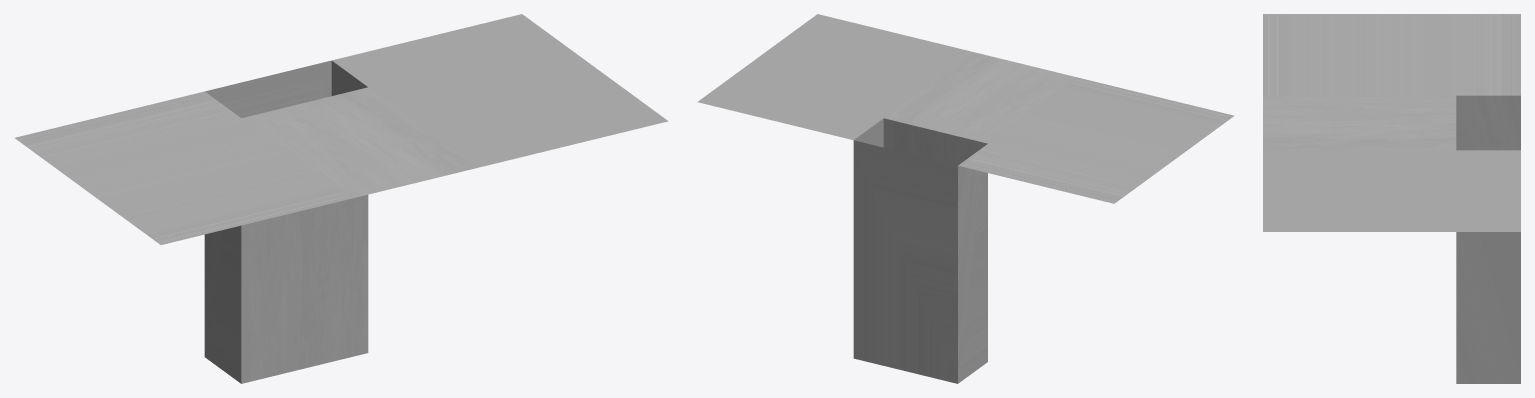
File: centered_ceiling_endCap.glb
The picture shows the model from 3 angles, left to right: view 1: azimuth 30°, elevation 25°; view 2: azimuth 150°, elevation 25°; view 3: azimuth 270°, elevation 25°; orthographic projection. The views are drawn at different scales.
Parts seen in each view (by area): view 1: centered.ceiling.endCap; view 2: centered.ceiling.endCap; view 3: centered.ceiling.endCap.
Boxes of the visible parts, <box> form: centered.ceiling.endCap: <box>15,14,668,383</box>; centered.ceiling.endCap: <box>697,14,1234,383</box>; centered.ceiling.endCap: <box>1263,14,1520,383</box>.
Size of the model in its own units: 1 by 0.5 by 0.5.
Materials: 1 (1 with a texture image).
